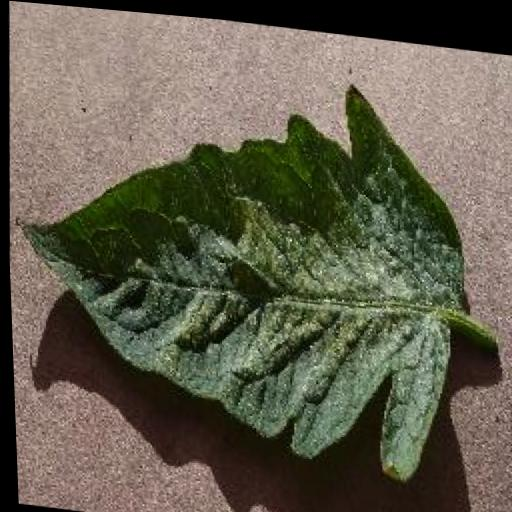Spider Mites: (1, 39, 478, 477)
